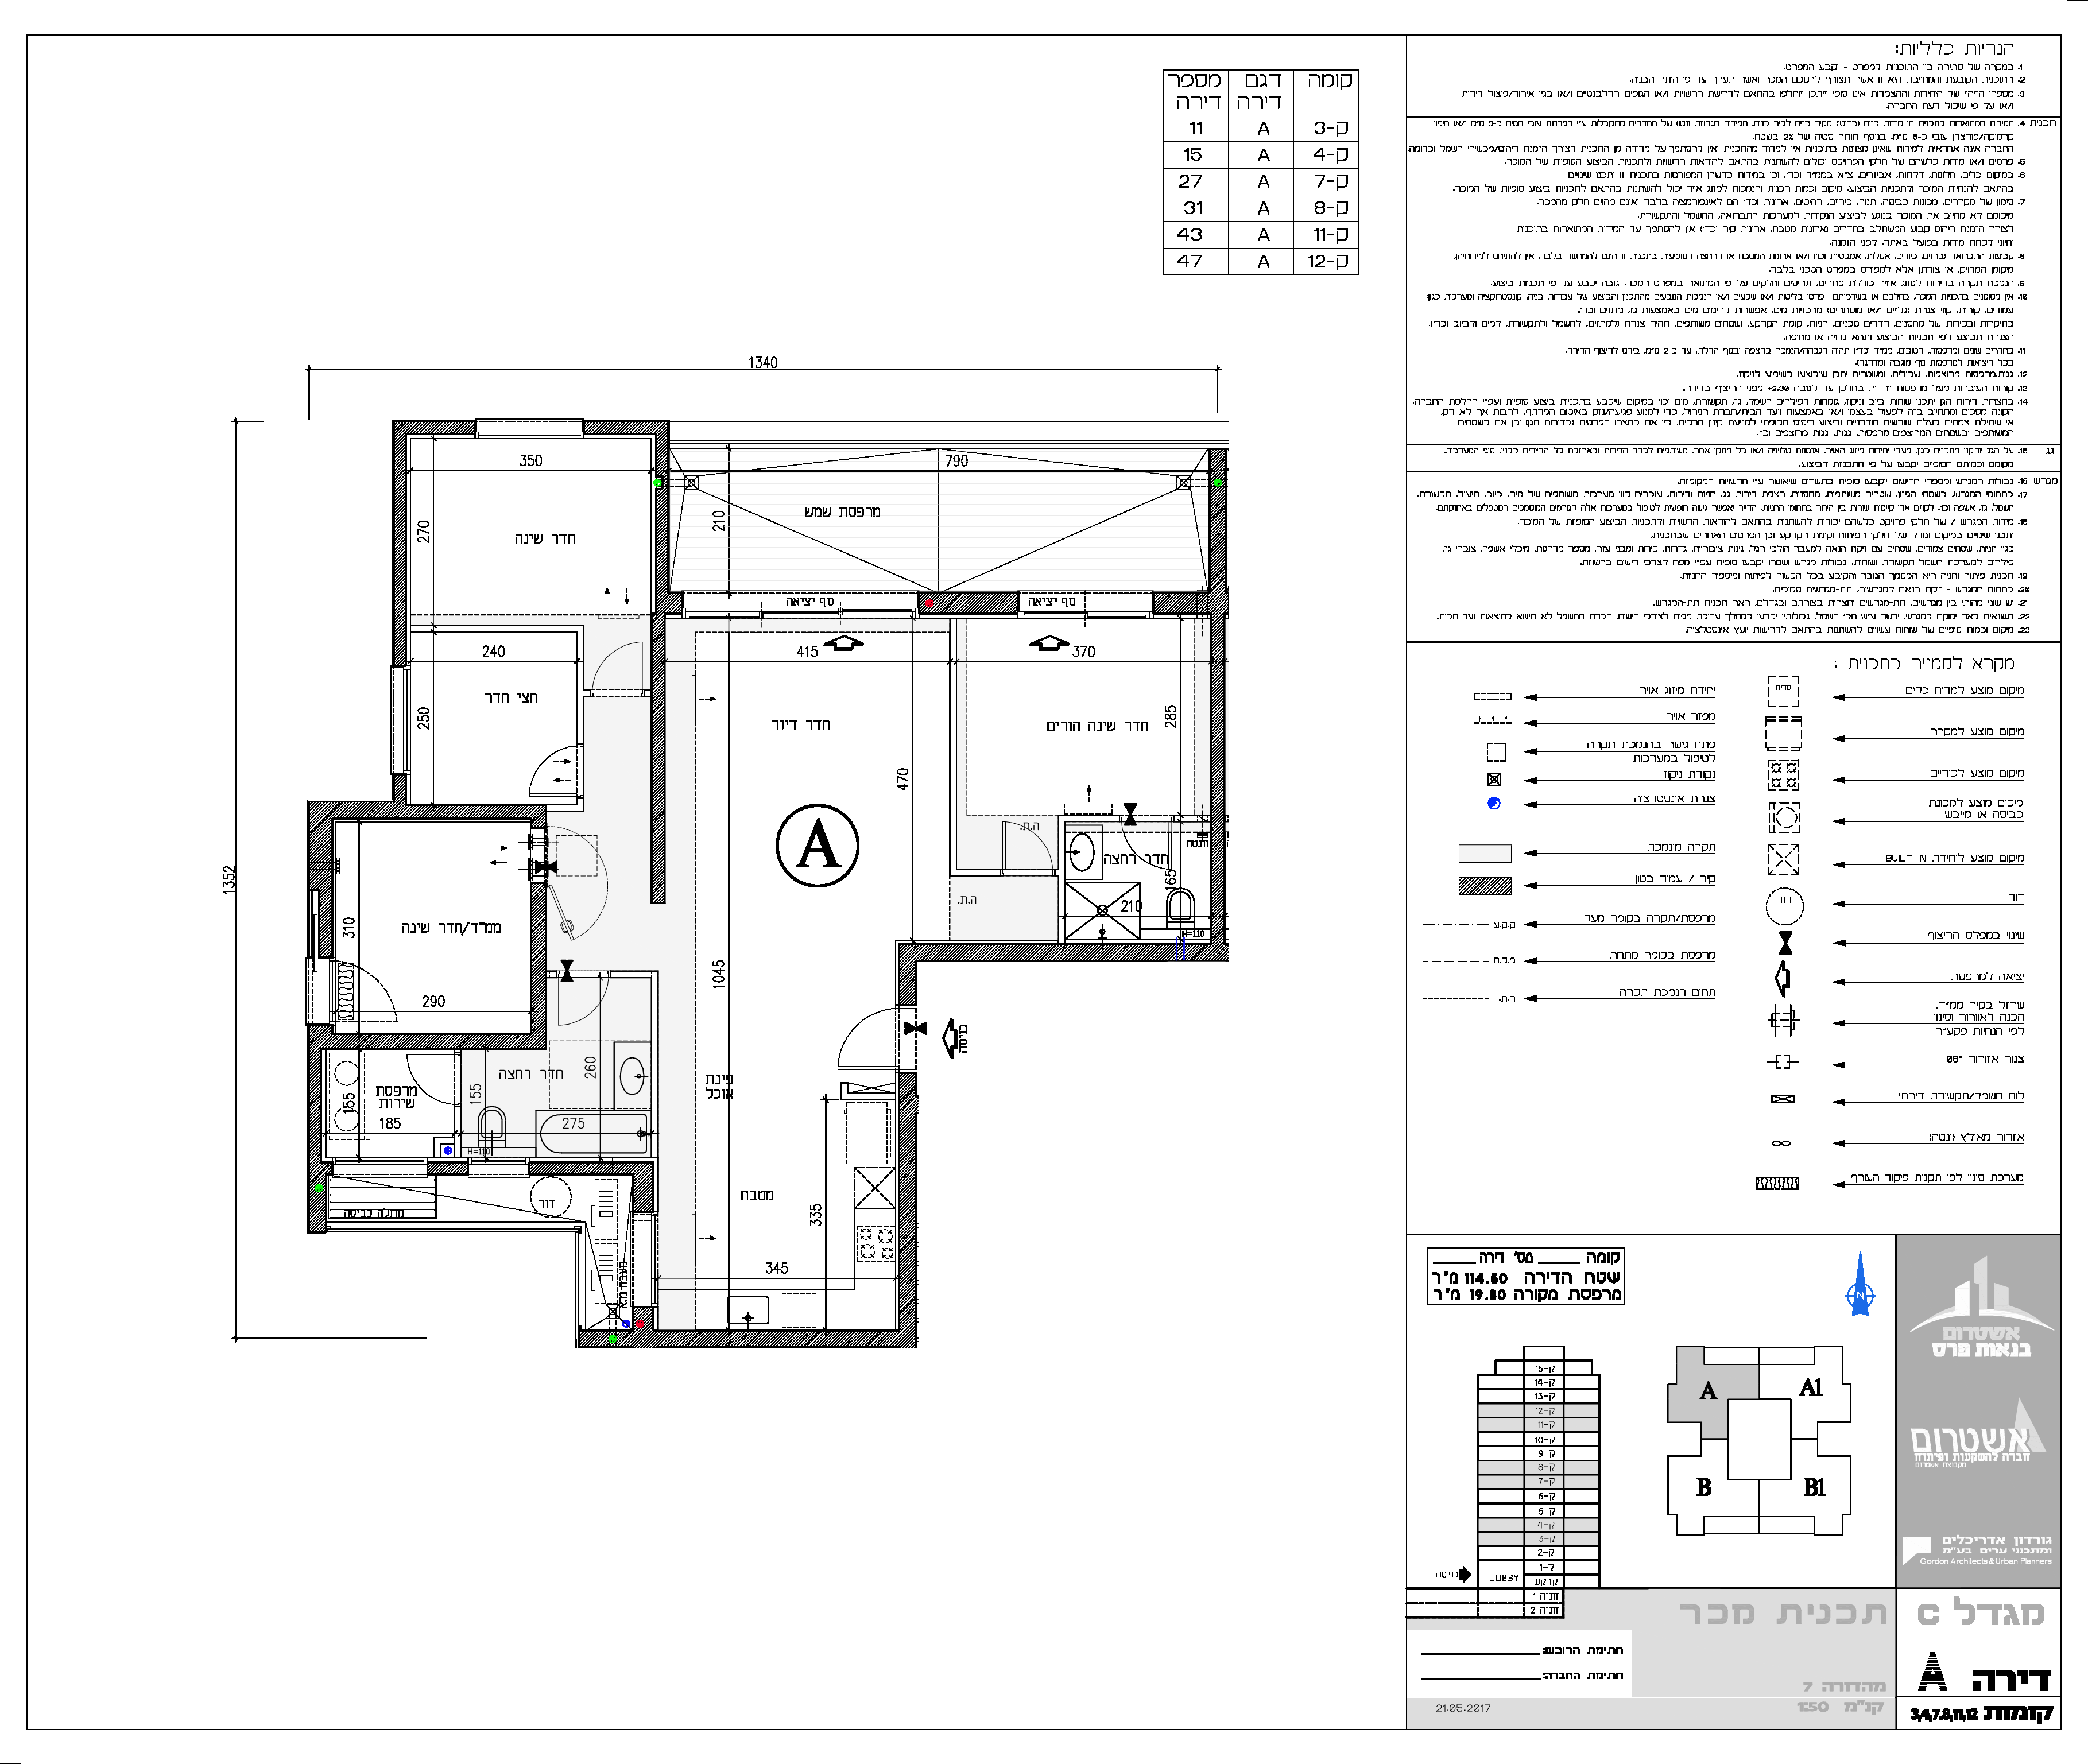door: (833, 1004, 894, 1076), (516, 740, 578, 801), (994, 812, 1055, 873), (586, 630, 646, 691), (553, 982, 618, 1027)
wall: (900, 945, 1220, 962), (653, 612, 665, 903)
window: (681, 591, 919, 619), (1017, 591, 1152, 619), (630, 1213, 660, 1307), (474, 418, 583, 439), (390, 667, 411, 775), (467, 1157, 529, 1179)
